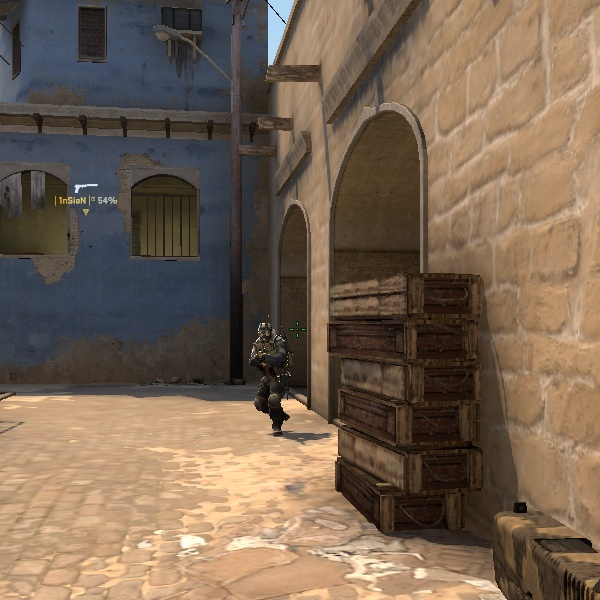t_body: (241, 314, 304, 434)
t_head: (254, 317, 280, 346)
